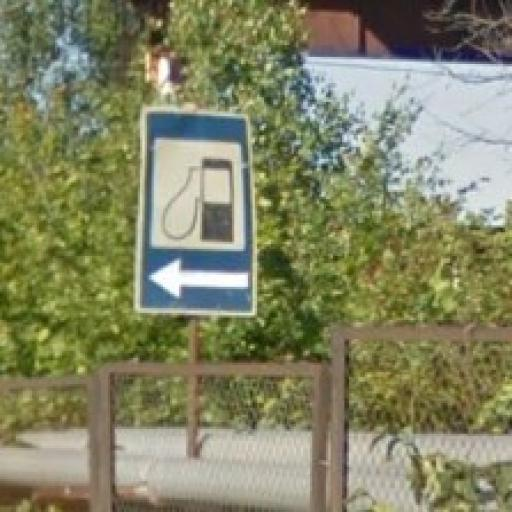traffic_sign: (137, 108, 261, 319)
